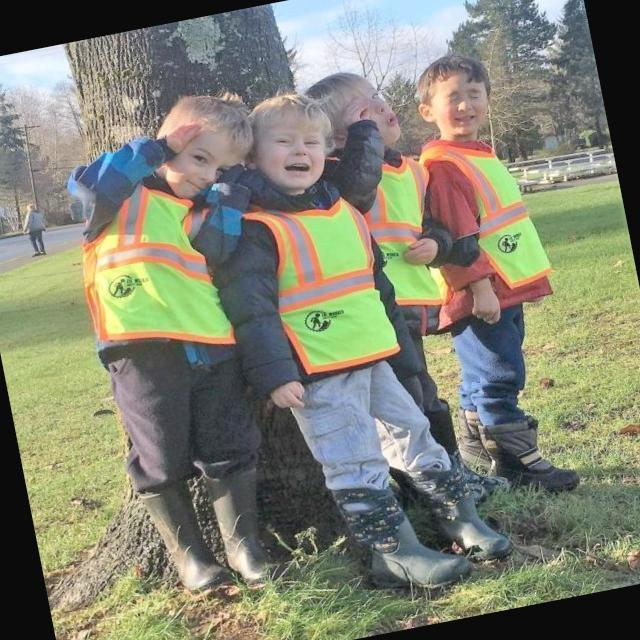vest: (252, 166, 396, 388), (79, 184, 222, 358), (433, 120, 558, 311), (362, 136, 453, 320)
